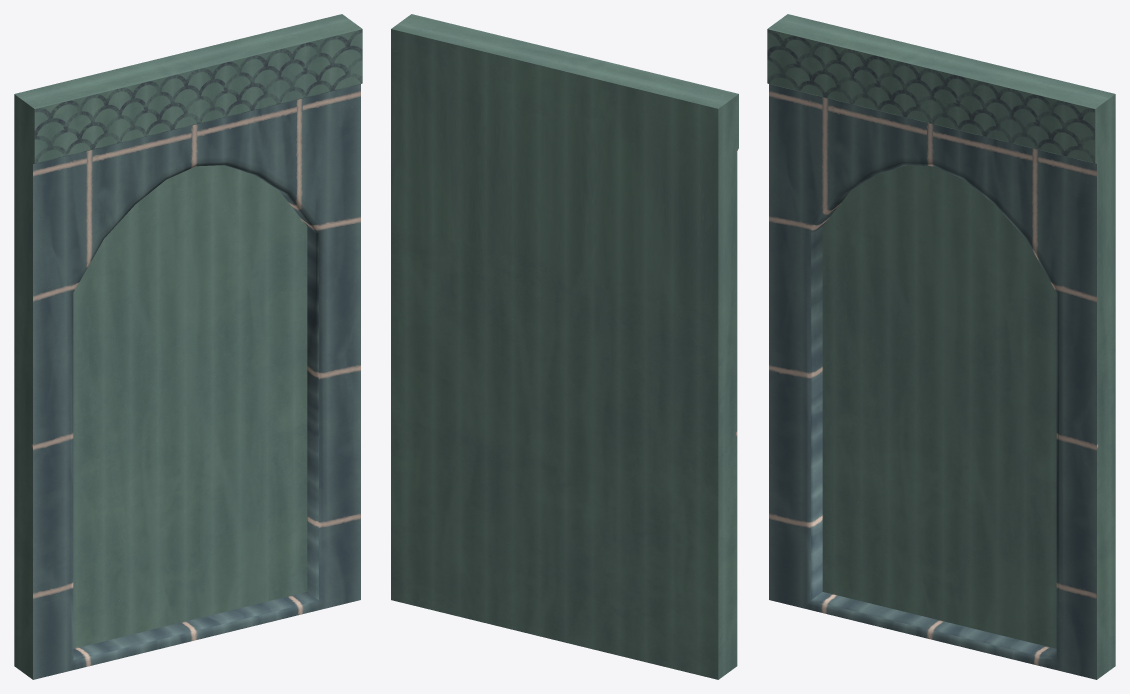
The model's file is WallPartTwo.fbx.
3 views of the same model, side by side, from view 1: azimuth 30°, elevation 25°; view 2: azimuth 150°, elevation 25°; view 3: azimuth 330°, elevation 25° (orthographic).
Visible parts, largest first — view 1: WallPartTwo; view 2: WallPartTwo; view 3: WallPartTwo.
Part boxes in pixels (x1,y1,x2,y2): WallPartTwo: [14, 14, 362, 679]; WallPartTwo: [391, 14, 738, 679]; WallPartTwo: [767, 14, 1115, 679].
Size of the model in its own units: 300 by 500 by 32.58.
